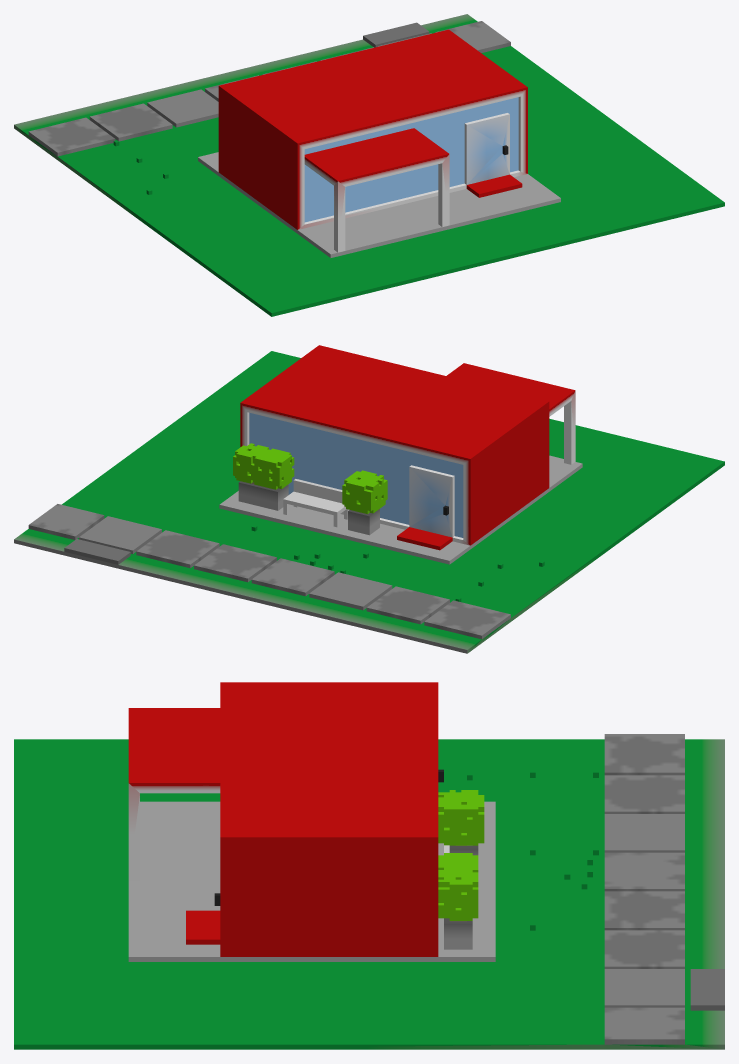
The model's file is scene_house.dae.
The picture shows the model from 3 angles, top to bottom: view 1: azimuth 30°, elevation 25°; view 2: azimuth 150°, elevation 25°; view 3: azimuth 270°, elevation 25°; orthographic projection. The views are drawn at different scales.
Parts seen in each view (by area): view 1: scene_house; view 2: scene_house; view 3: scene_house.
Boxes of the visible parts, bbox=[...] form: scene_house: bbox=[14, 14, 724, 316]; scene_house: bbox=[14, 345, 724, 653]; scene_house: bbox=[14, 682, 724, 1049].
Bounding box in the file's own units: 12.6 × 12.4 × 2.5.
